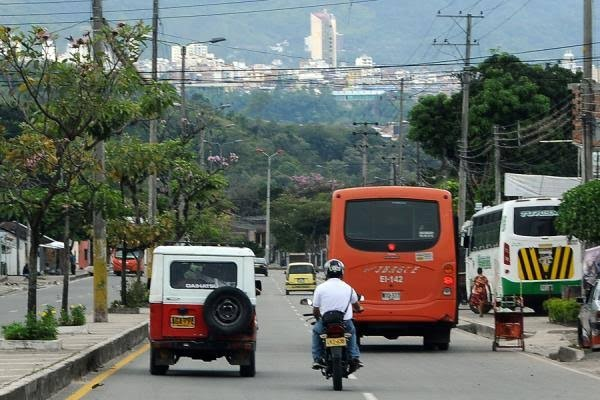car: (315, 179, 464, 350), (319, 181, 462, 355), (148, 244, 264, 375), (148, 247, 264, 376), (464, 197, 579, 324), (464, 201, 574, 317), (309, 289, 363, 387), (314, 325, 362, 387)
